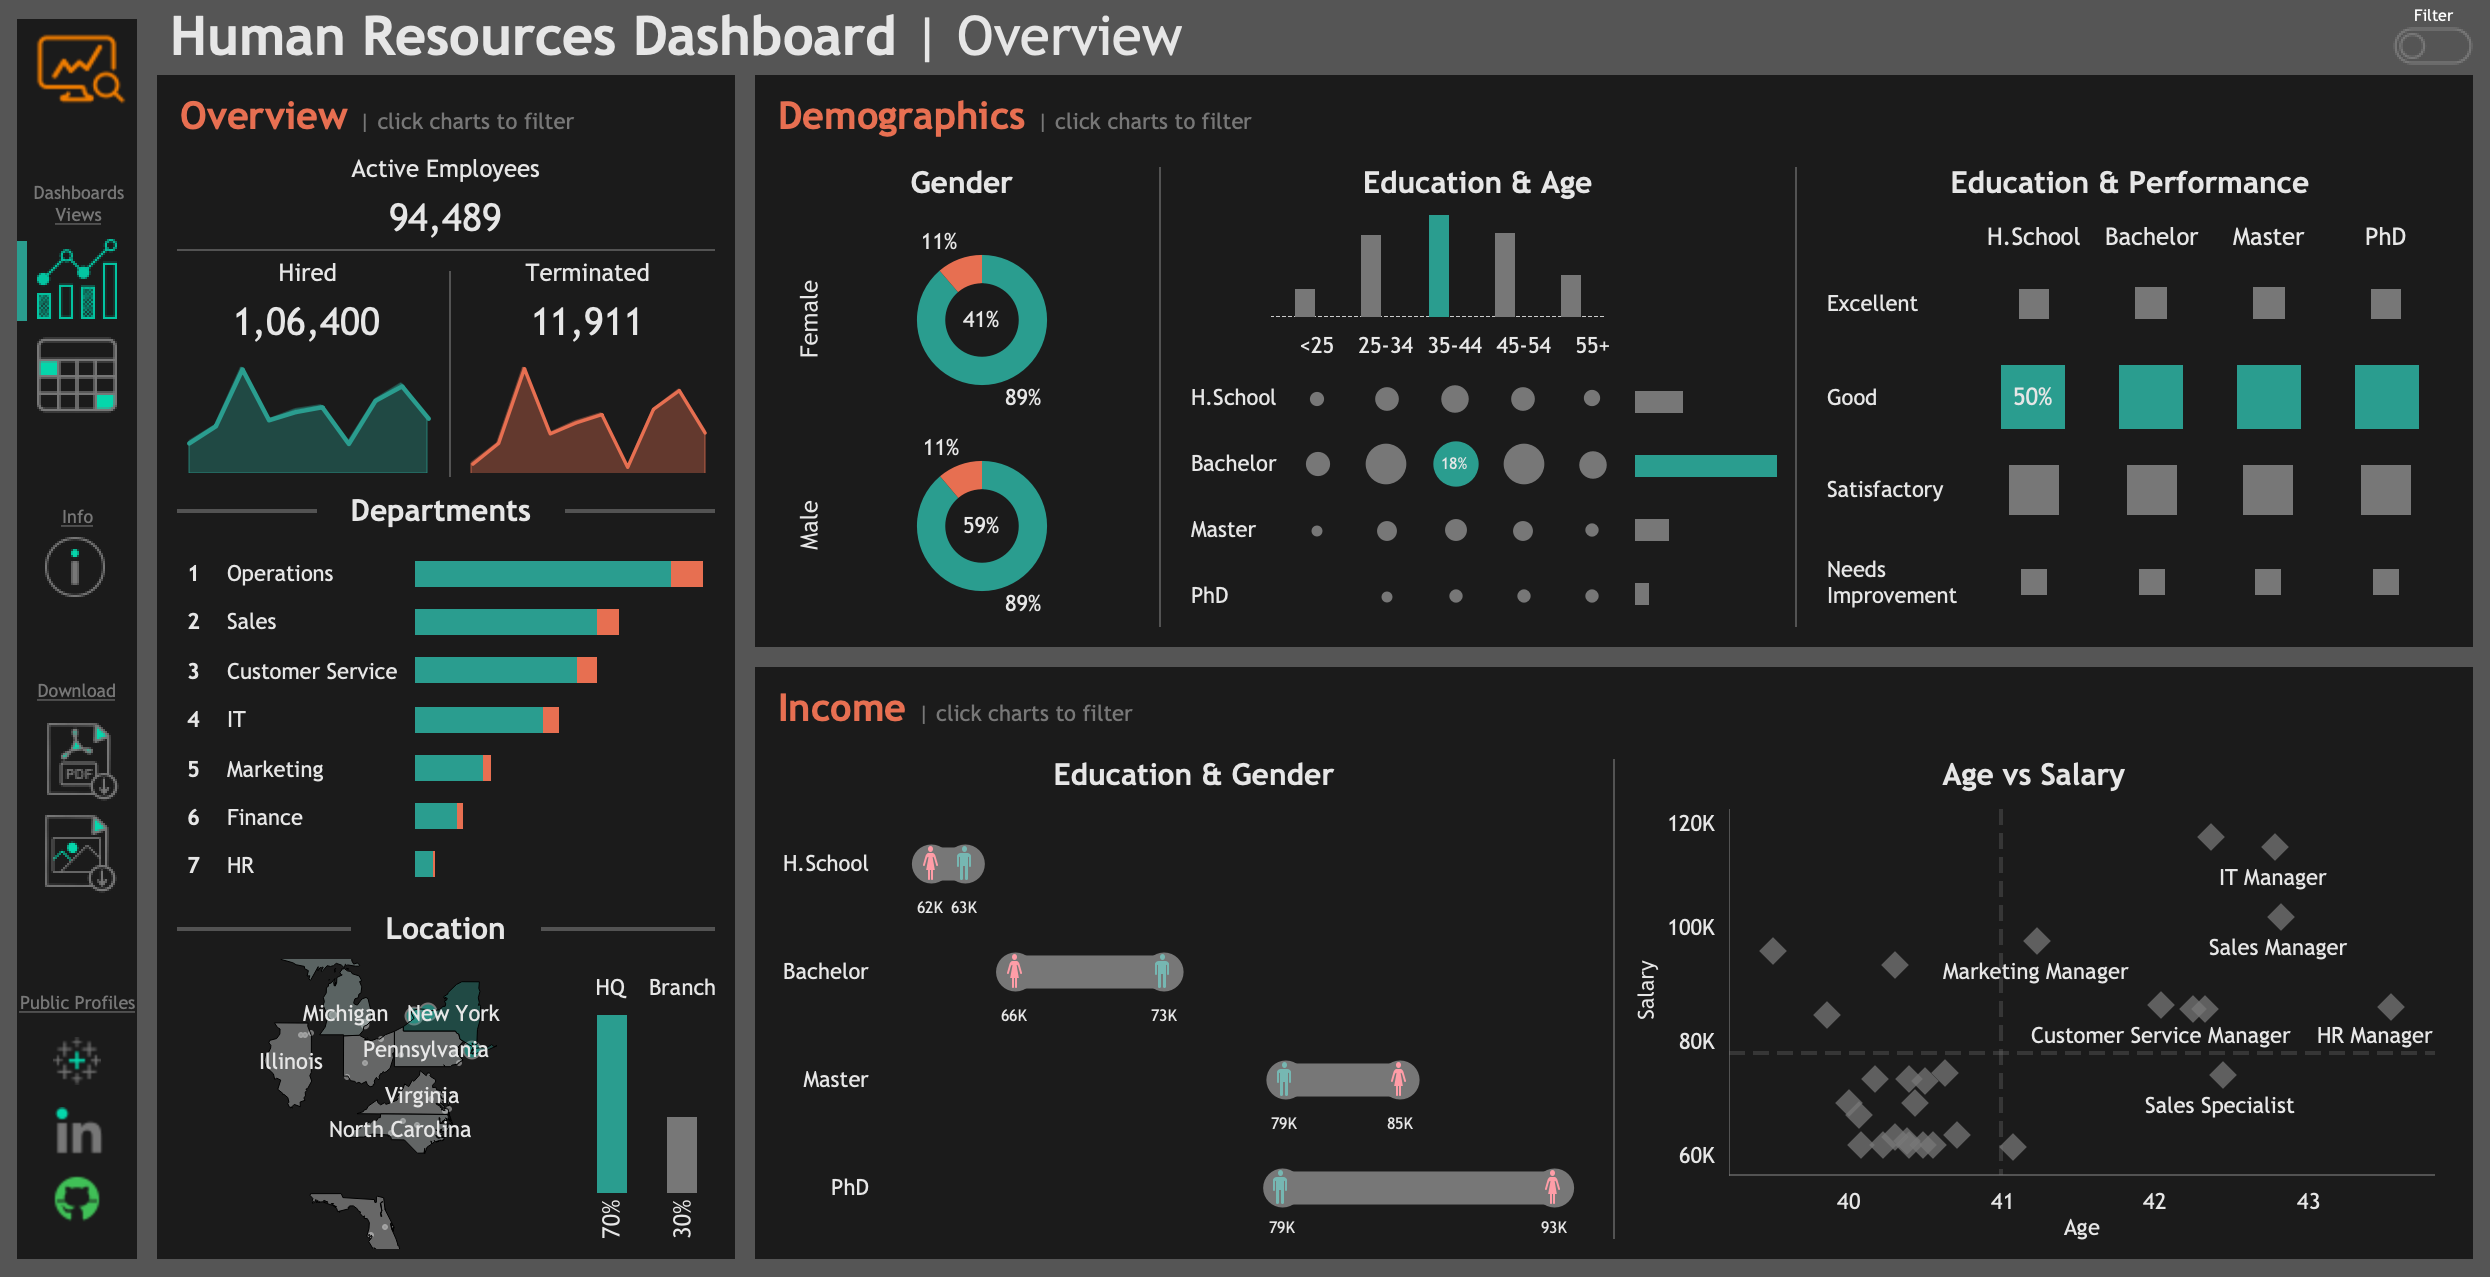

What the dashboard file says about the page in this screenshot:
{"tool":"tableau","page":{"name":"HR Summary","canvas":[1250,650],"ordinal":1},"visuals":[{"type":"blank","box":[70,0,1180,127]},{"type":"text","box":[81,1,634,38]},{"type":"blank","box":[715,1,524,38]},{"type":"text","box":[1197,2,45,15]},{"type":"filter","title":"Gender & Edu","param":"[federated.1ncc5bx0hcjfpg1agufgo1juwz2m].[none:gender:nk]","box":[783,6,103,29]},{"type":"filter","title":"Gender & Edu","param":"[federated.1ncc5bx0hcjfpg1agufgo1juwz2m].[none:Calculation_0175672022626318:nk]","box":[886,6,103,29]},{"type":"filter","title":"Gender & Edu","param":"[federated.1ncc5bx0hcjfpg1agufgo1juwz2m].[none:Calculation_0175671965384713:nk]","box":[989,6,103,29]},{"type":"filter","title":"Gender & Edu","param":"[federated.1ncc5bx0hcjfpg1agufgo1juwz2m].[yr:hiredate:ok]","box":[1092,6,103,29]},{"type":"image","param":"Image/Icon-57.png","box":[11,11,60,50]},{"type":"dashboard-object","box":[1199,13,40,24]},{"type":"text","box":[86,44,279,31]},{"type":"text","box":[385,44,849,31]},{"type":"text","box":[86,75,279,22]},{"type":"text","box":[390,80,187,26]},{"type":"blank","box":[582,80,1,240.1]},{"type":"text","box":[588,80,306.6,26]},{"type":"blank","box":[899.6,80,1,240.1]},{"type":"text","box":[905.6,80,323.3,26]},{"type":"text","box":[14,92,56,24]},{"type":"worksheet","title":"BAN Active","mark":"Automatic","box":[86,97,279,29]},{"type":"worksheet","title":"Gender","mark":"Pie","rows":["gender"],"cols":["Calculation_0175671969517579","Calculation_0175671969517579"],"box":[390,106,187,214.1]},{"type":"worksheet","title":"Age Groups","mark":"Bar","rows":["Calculation_0175671957872640"],"cols":["Calculation_0175671971307533"],"box":[588,106,306.6,54]},{"type":"worksheet","title":"Edu vs Performance","mark":"Square","rows":["performance_rating"],"cols":["education_level"],"box":[905.6,106,323.3,214]},{"type":"dashboard-object","box":[21,121,40,40]},{"type":"blank","box":[11,122,5,40]},{"type":"blank","box":[86,126,279,1]},{"type":"text","box":[70,127,1180,326]},{"type":"text","box":[86,127,141,22]},{"type":"blank","box":[227,127,1,115]},{"type":"text","box":[228,127,137,22]},{"type":"worksheet","title":"BAN Hired","mark":"Automatic","box":[86,149,141,29]},{"type":"worksheet","title":"BAN Terminated","mark":"Automatic","box":[228,149,137,29]},{"type":"worksheet","title":"Age vs Edu","mark":"Circle","rows":["education_level"],"cols":["Calculation_0175671971307533"],"box":[588,160,232,160]},{"type":"worksheet","title":"Edu Levels","mark":"Bar","rows":["education_level"],"cols":["Calculation_0175671957872640"],"box":[820,160,74.6,160]},{"type":"dashboard-object","box":[21,169,40,40]},{"type":"worksheet","title":"Hired by Year","mark":"Automatic","rows":["Calculation_0175671957872640","Calculation_0175671957872640"],"cols":["hiredate"],"box":[86,178,141,64]},{"type":"worksheet","title":"Terminated by Year","mark":"Area","rows":["Calculation_0175671957999617","Calculation_0175671957999617"],"cols":["hiredate"],"box":[228,178,137,64]},{"type":"blank","box":[86,242,80,30]},{"type":"text","box":[166,242,114,30]},{"type":"blank","box":[280,242,85,30]},{"type":"text","box":[14,253,55,15]},{"type":"dashboard-object","box":[20,265,40,40]},{"type":"worksheet","title":"Department","mark":"Bar","rows":["Calculation_0175671964569608","department"],"cols":["Calculation_0175671957872640"],"box":[86,272,279,179]},{"type":"text","box":[12,337,58,20]},{"type":"text","box":[385,340,849,31]},{"type":"dashboard-object","box":[22,362,40,40]},{"type":"text","box":[390,376,419,26]},{"type":"blank","box":[809,376,1,250.1]},{"type":"text","box":[815,376,409,26]},{"type":"worksheet","title":"Gender & Edu","mark":"Line","rows":["education_level"],"cols":["salary","salary"],"box":[390,402,419,224]},{"type":"worksheet","title":"Age vs Salary","mark":"Shape","rows":["salary"],"cols":["Calculation_0175671970885644"],"box":[815,402,409,224.1]},{"type":"dashboard-object","box":[21,408,40,40]},{"type":"blank","box":[86,451,97,30]},{"type":"text","box":[183,451,85,30]},{"type":"blank","box":[268,451,97,30]},{"type":"blank","box":[70,453,1180,187]},{"type":"worksheet","title":"Map States","mark":"Automatic","box":[86,481,200,145.1]},{"type":"worksheet","title":"Location","mark":"Bar","rows":["Calculation_0175671957872640"],"cols":["Calculation_0175671965384713","Calculation1"],"box":[286,481,79,145.1]},{"type":"text","box":[10,492,61,22]},{"type":"image","param":"Image/contact-public.png","box":[21,512,40,40]},{"type":"image","param":"Image/contact-linkedin.png","box":[22,547,40,40]},{"type":"image","param":"Image/github.png","box":[21,581,40,40]}]}

Visuals, with their boxes on the page's 1250x650 design canvas (x1, y1, x2, y2). These are canvas units, not pixel positions in the 2490x1277 screenshot, which may show the page scaled, cropped or inside an application window:
blank: bbox(70, 0, 1250, 127)
text: bbox(81, 1, 715, 39)
blank: bbox(715, 1, 1239, 39)
text: bbox(1197, 2, 1242, 17)
"Gender & Edu" filter: bbox(783, 6, 886, 35)
"Gender & Edu" filter: bbox(886, 6, 989, 35)
"Gender & Edu" filter: bbox(989, 6, 1092, 35)
"Gender & Edu" filter: bbox(1092, 6, 1195, 35)
image: bbox(11, 11, 71, 61)
dashboard-object: bbox(1199, 13, 1239, 37)
text: bbox(86, 44, 365, 75)
text: bbox(385, 44, 1234, 75)
text: bbox(86, 75, 365, 97)
text: bbox(390, 80, 577, 106)
blank: bbox(582, 80, 583, 320)
text: bbox(588, 80, 895, 106)
blank: bbox(900, 80, 901, 320)
text: bbox(906, 80, 1229, 106)
text: bbox(14, 92, 70, 116)
"BAN Active" worksheet: bbox(86, 97, 365, 126)
"Gender" worksheet (Pie marks): bbox(390, 106, 577, 320)
"Age Groups" worksheet (Bar marks): bbox(588, 106, 895, 160)
"Edu vs Performance" worksheet (Square marks): bbox(906, 106, 1229, 320)
dashboard-object: bbox(21, 121, 61, 161)
blank: bbox(11, 122, 16, 162)
blank: bbox(86, 126, 365, 127)
text: bbox(70, 127, 1250, 453)
text: bbox(86, 127, 227, 149)
blank: bbox(227, 127, 228, 242)
text: bbox(228, 127, 365, 149)
"BAN Hired" worksheet: bbox(86, 149, 227, 178)
"BAN Terminated" worksheet: bbox(228, 149, 365, 178)
"Age vs Edu" worksheet (Circle marks): bbox(588, 160, 820, 320)
"Edu Levels" worksheet (Bar marks): bbox(820, 160, 895, 320)
dashboard-object: bbox(21, 169, 61, 209)
"Hired by Year" worksheet: bbox(86, 178, 227, 242)
"Terminated by Year" worksheet (Area marks): bbox(228, 178, 365, 242)
blank: bbox(86, 242, 166, 272)
text: bbox(166, 242, 280, 272)
blank: bbox(280, 242, 365, 272)
text: bbox(14, 253, 69, 268)
dashboard-object: bbox(20, 265, 60, 305)
"Department" worksheet (Bar marks): bbox(86, 272, 365, 451)
text: bbox(12, 337, 70, 357)
text: bbox(385, 340, 1234, 371)
dashboard-object: bbox(22, 362, 62, 402)
text: bbox(390, 376, 809, 402)
blank: bbox(809, 376, 810, 626)
text: bbox(815, 376, 1224, 402)
"Gender & Edu" worksheet (Line marks): bbox(390, 402, 809, 626)
"Age vs Salary" worksheet (Shape marks): bbox(815, 402, 1224, 626)
dashboard-object: bbox(21, 408, 61, 448)
blank: bbox(86, 451, 183, 481)
text: bbox(183, 451, 268, 481)
blank: bbox(268, 451, 365, 481)
blank: bbox(70, 453, 1250, 640)
"Map States" worksheet: bbox(86, 481, 286, 626)
"Location" worksheet (Bar marks): bbox(286, 481, 365, 626)
text: bbox(10, 492, 71, 514)
image: bbox(21, 512, 61, 552)
image: bbox(22, 547, 62, 587)
image: bbox(21, 581, 61, 621)
